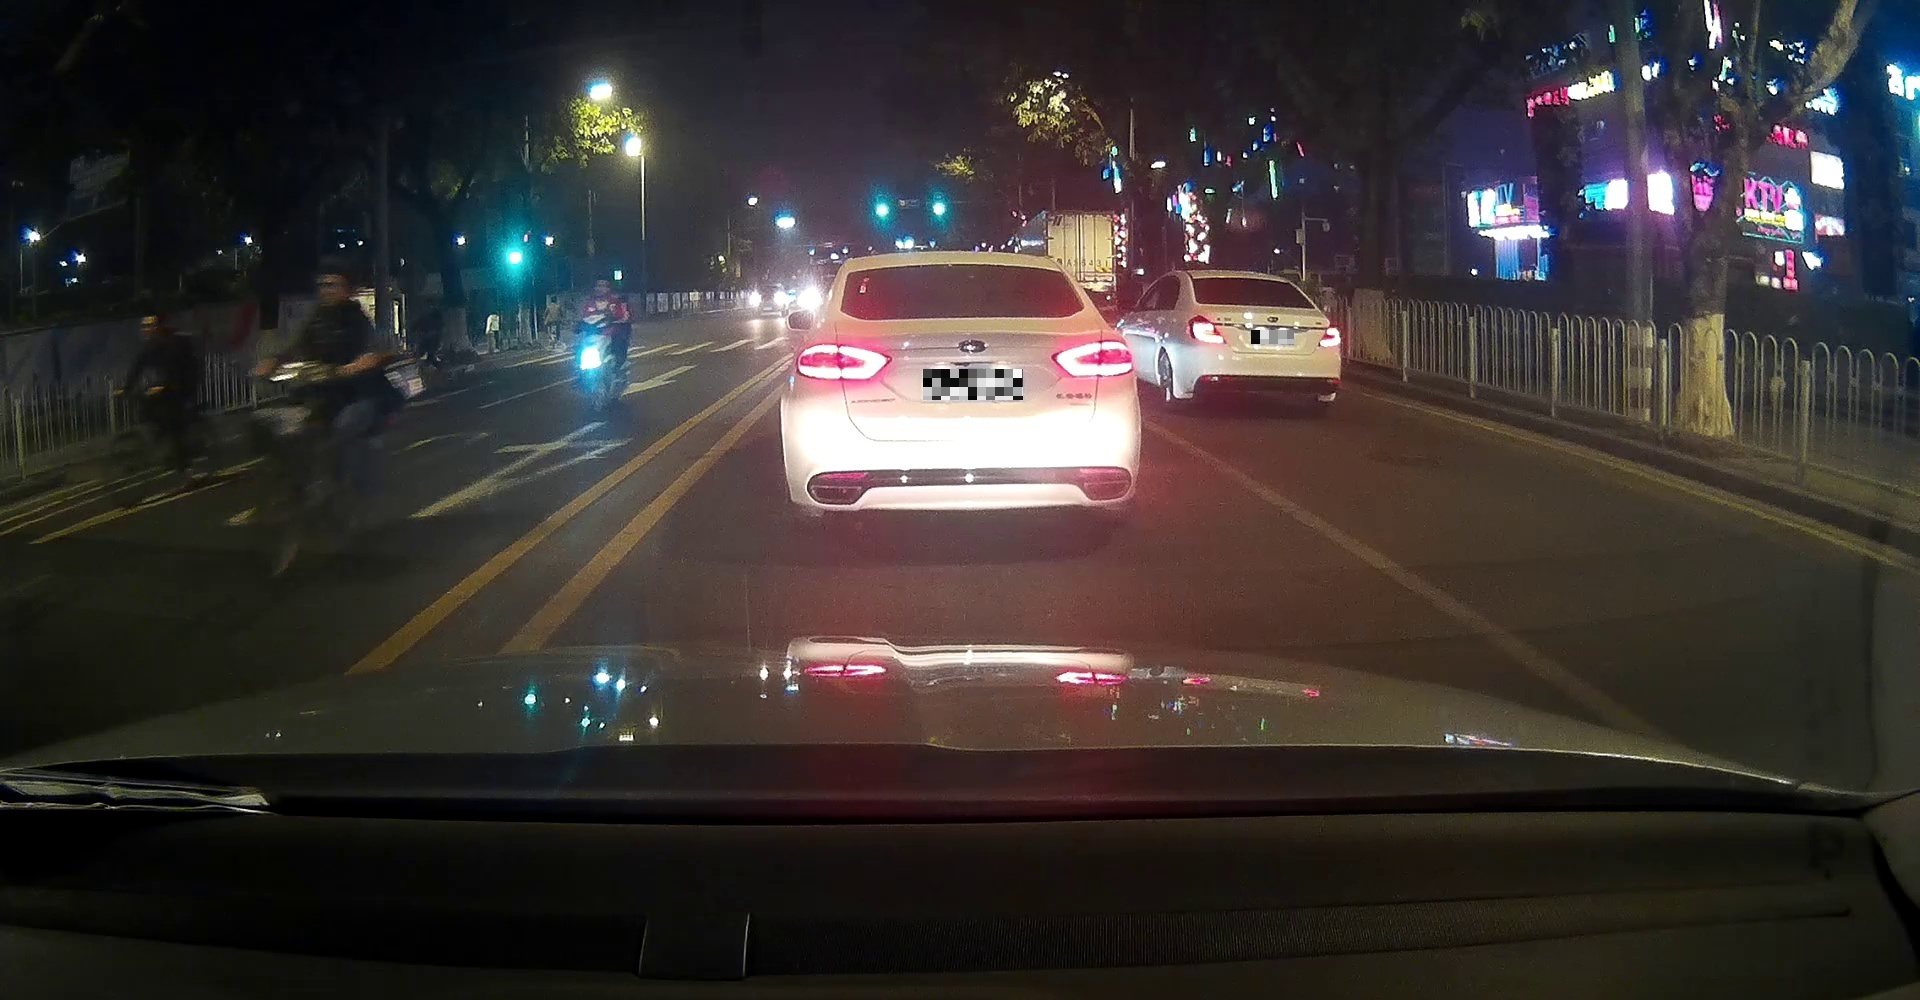L_light: (795, 344, 890, 379), (1189, 313, 1228, 346)
R_light: (1051, 338, 1137, 376), (1318, 324, 1342, 346)
T_light: (935, 261, 971, 269), (1236, 275, 1257, 282)
night-no: (778, 253, 1138, 536), (1178, 268, 1343, 402)
plate_1: (923, 369, 1023, 400)
plate_2: (1251, 330, 1294, 344)
